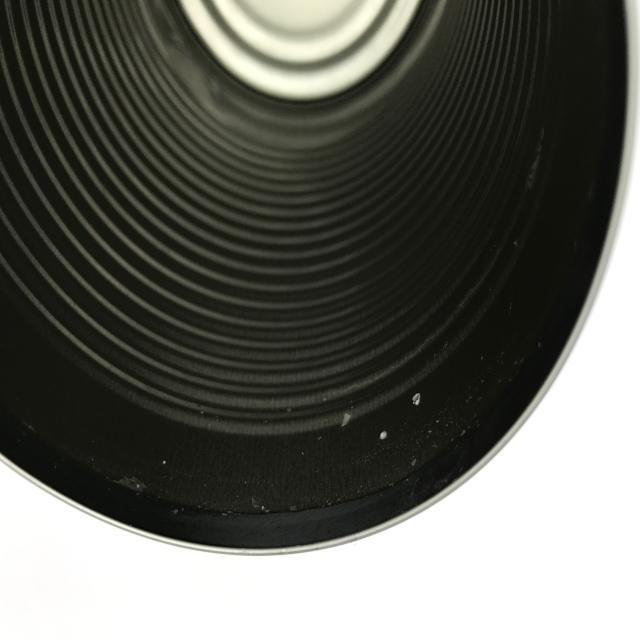metal: (0, 1, 638, 566)
